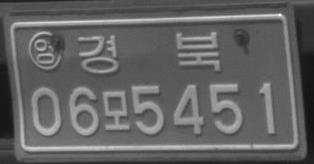0: (30, 85, 62, 137)
1: (251, 82, 282, 135)
4: (172, 84, 205, 135)
5: (130, 84, 165, 136), (208, 82, 242, 134)
6: (68, 84, 100, 137)
경북_D: (77, 30, 221, 74)
모: (101, 89, 130, 131)
영: (27, 30, 63, 71)
